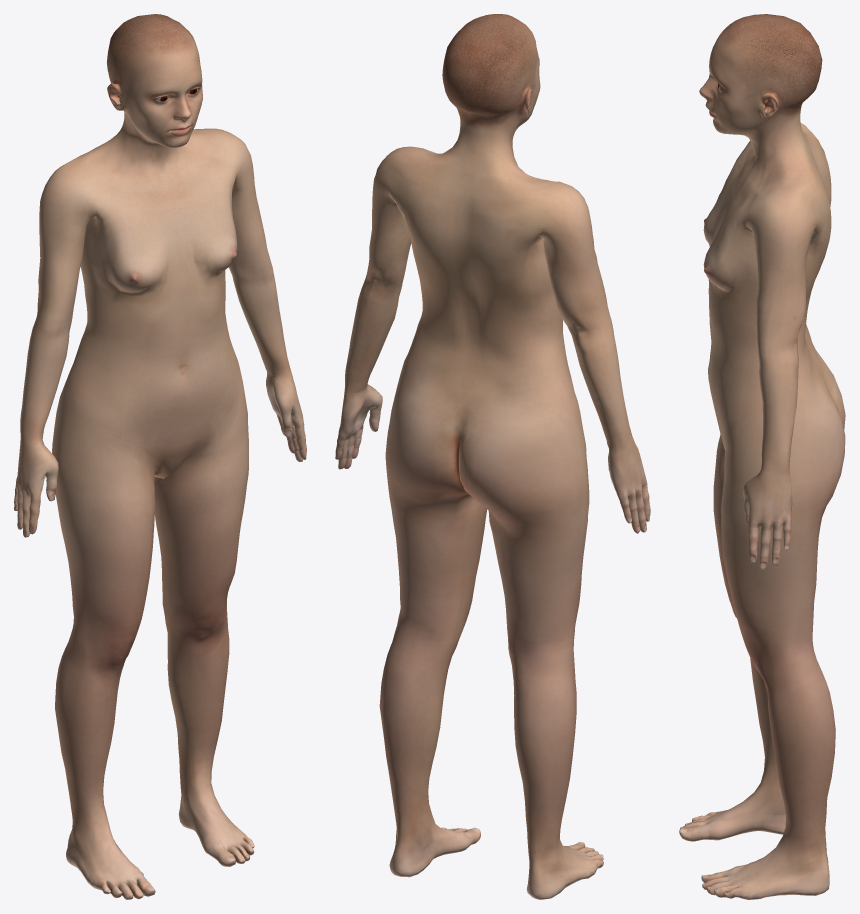
File: female_character_base_-_rigged.glb
The picture shows the model from 3 angles, left to right: view 1: azimuth 30°, elevation 25°; view 2: azimuth 150°, elevation 25°; view 3: azimuth 270°, elevation 25°; orthographic projection.
Parts seen in each view (by area): view 1: Object_2; view 2: Object_2; view 3: Object_2.
Part boxes in pixels (x1,y1,x2,y2): Object_2: [14, 14, 306, 899]; Object_2: [335, 14, 650, 899]; Object_2: [679, 14, 845, 899].
Size of the model in its own units: 5.43 by 15.13 by 2.7.
Materials: 2 (2 with a texture image).
